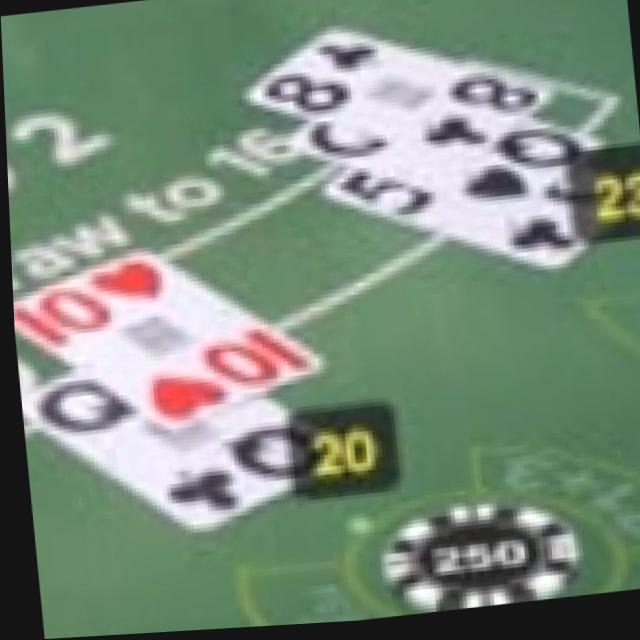Card-10: (11, 250, 317, 431)
Card-5: (321, 166, 636, 275)
Card-8: (246, 32, 554, 165)
Card-Q: (20, 371, 343, 534), (289, 121, 603, 213)
